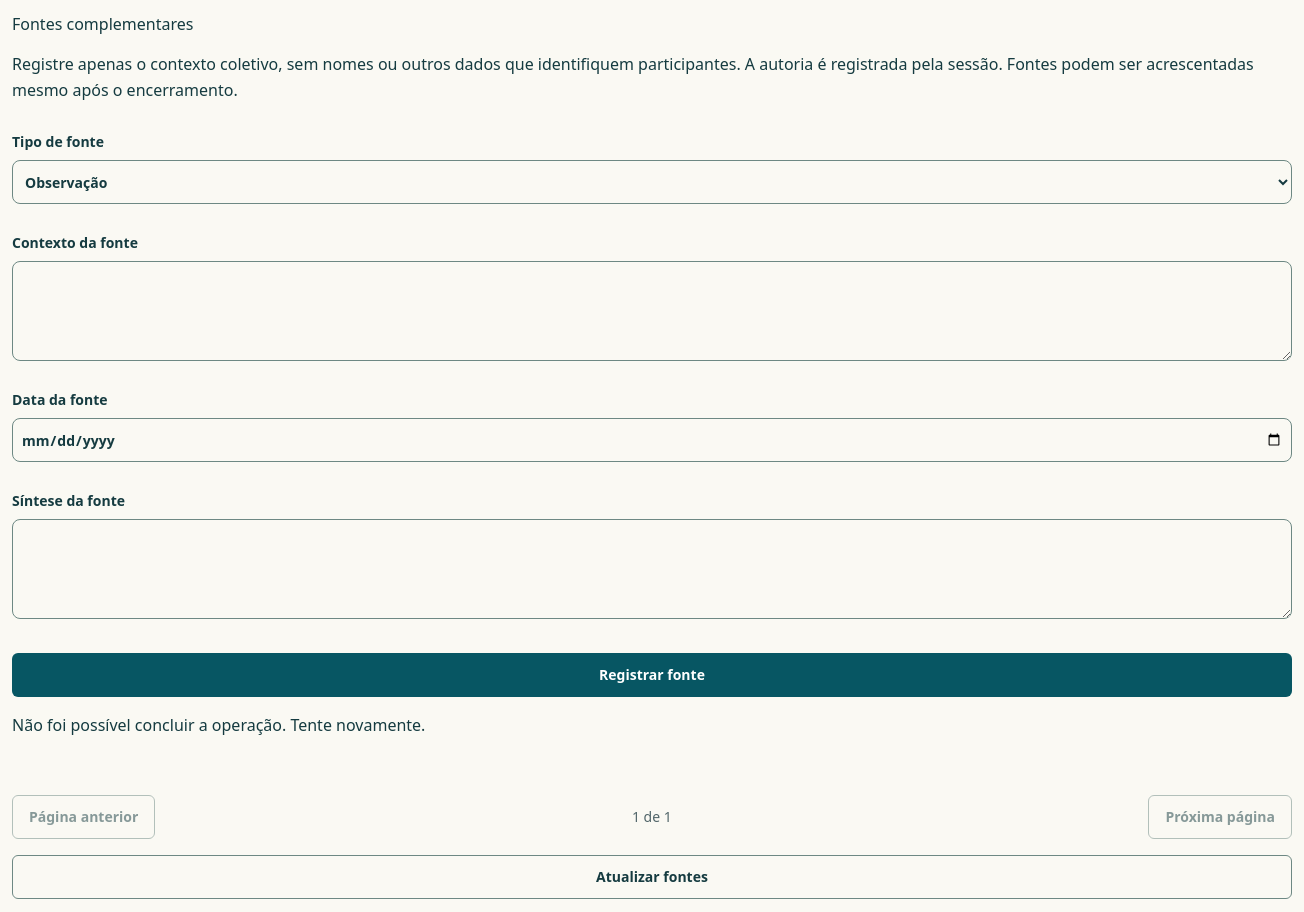
rejeita fontes de outro ciclo e permite repetir a consulta sem perder o rascunho
Check: the message "Não foi possível concluir a operação. Tente novamente." is shown, box [12,714,425,736]
Type "Rascunho ainda em edição" into the text box labelled "Contexto da fonte".
click(652, 311); type("Rascunho ainda em edição")  # box [12,261,1292,361]
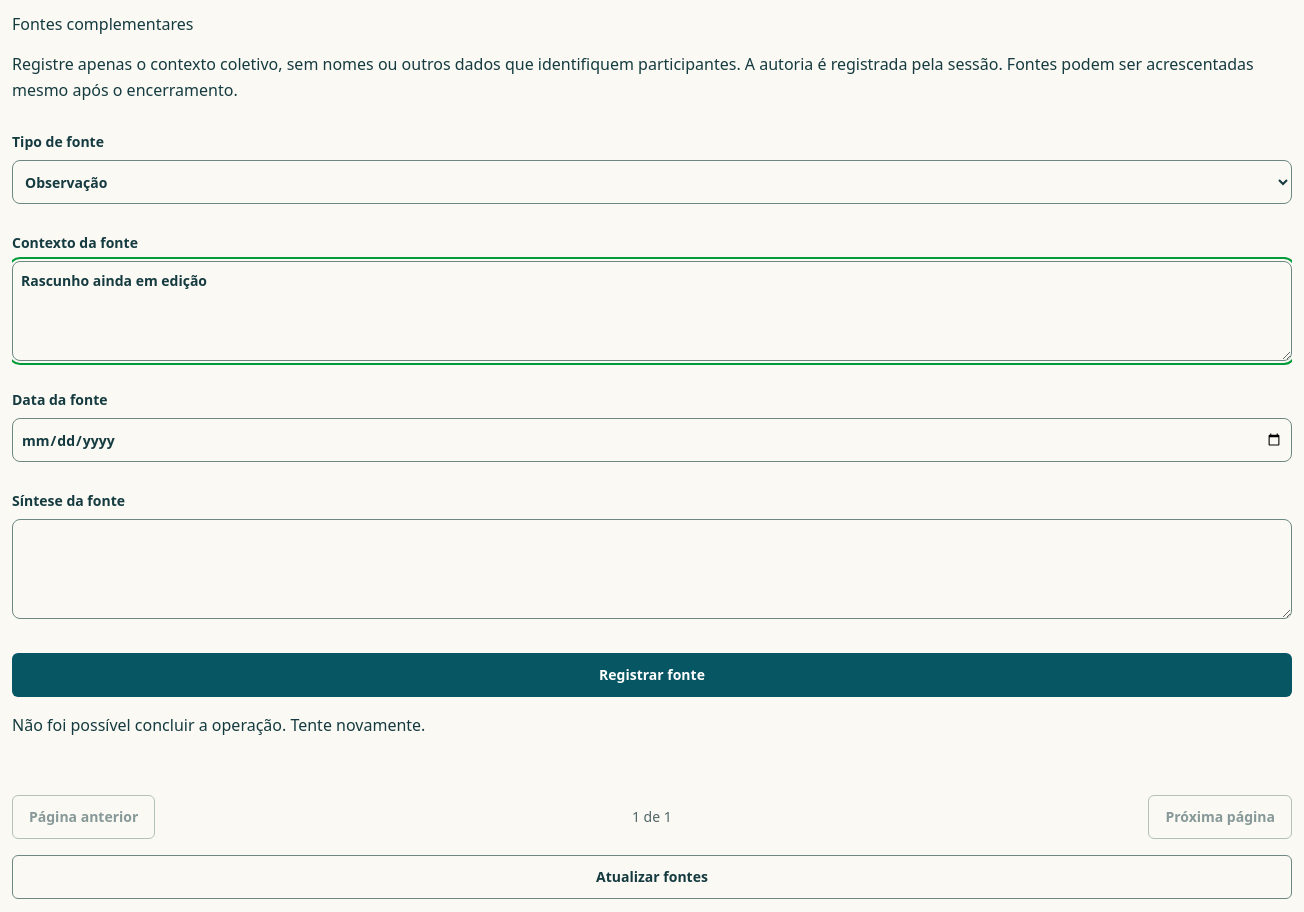
Click the button "Atualizar fontes".
click(652, 877)  # box [12,855,1292,899]
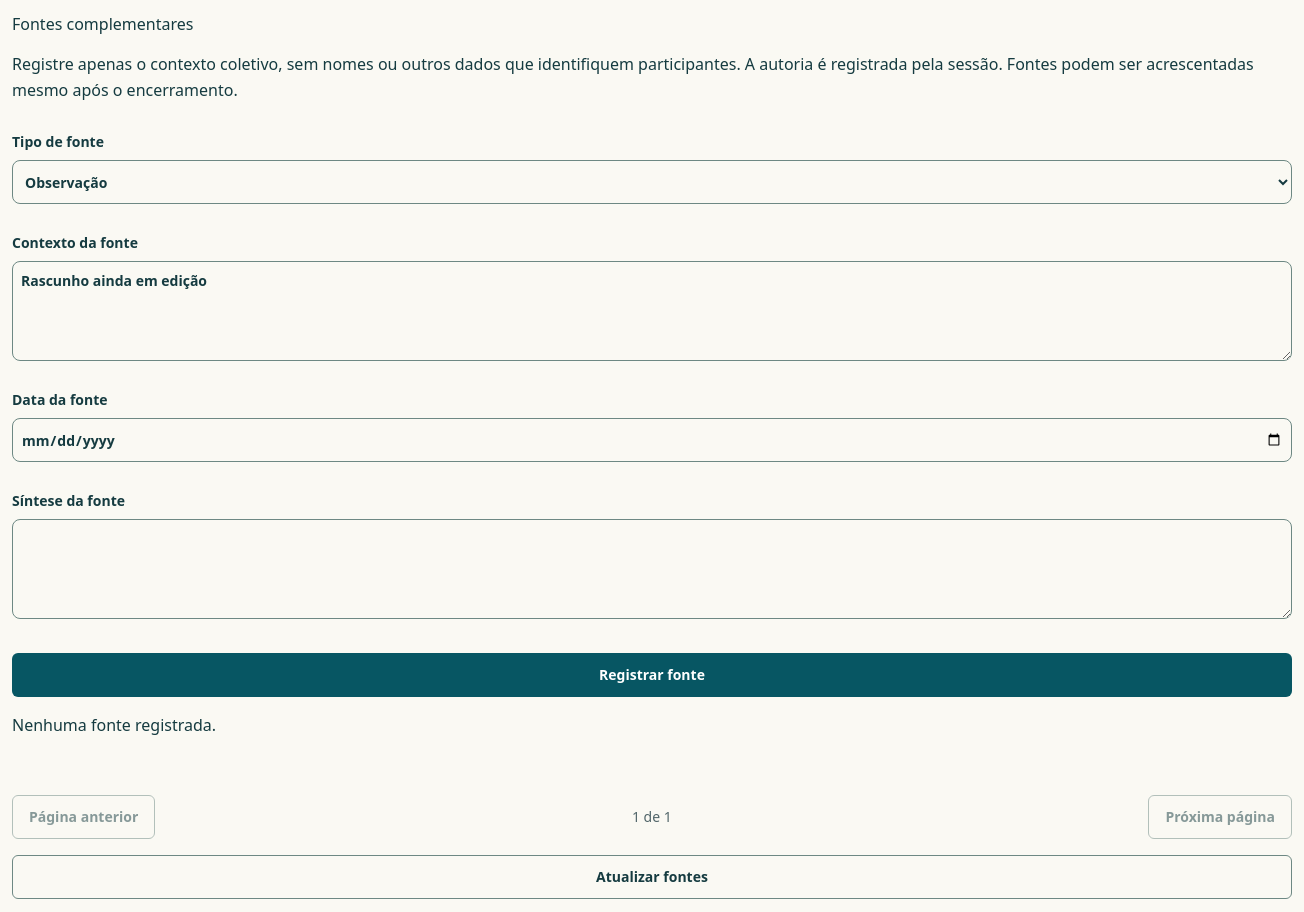
Check: the text "Nenhuma fonte registrada." is shown, box [12,714,216,736]
